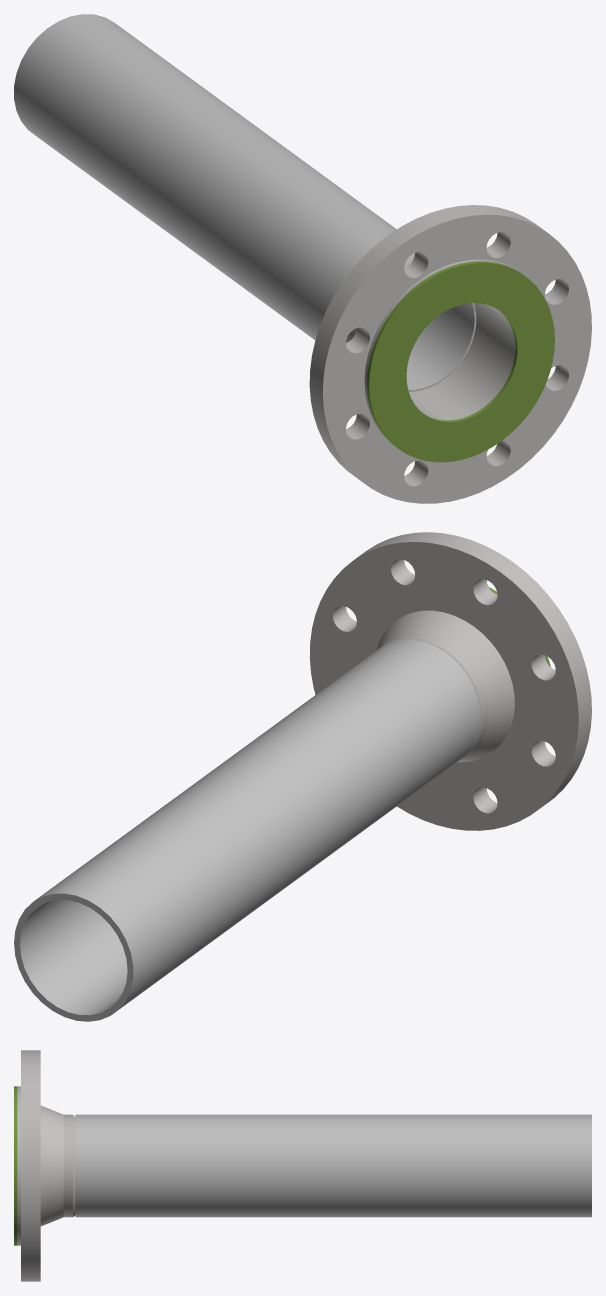
The model's file is Rohr mit Flansch DN80 (einseitig).obj.
3 views of the same model, one above another, from view 1: azimuth 30°, elevation 25°; view 2: azimuth 150°, elevation 25°; view 3: azimuth 270°, elevation 25° (orthographic). The views are drawn at different scales.
Parts seen in each view (by area): view 1: Volumenkörper1, Solid1, Volumenkörper1:1; view 2: Volumenkörper1, Solid1; view 3: Volumenkörper1, Solid1, Volumenkörper1:1.
Part boxes in pixels (box(x1,y1,x2,y2)): Volumenkörper1: box(14, 14, 476, 391); Solid1: box(309, 205, 591, 503); Volumenkörper1:1: box(367, 261, 554, 462); Volumenkörper1: box(14, 639, 480, 1021); Solid1: box(309, 532, 591, 830); Volumenkörper1: box(75, 1114, 591, 1217); Solid1: box(17, 1050, 75, 1281); Volumenkörper1:1: box(14, 1086, 17, 1245).
Size of the model in its own units: 200 by 200 by 500.
